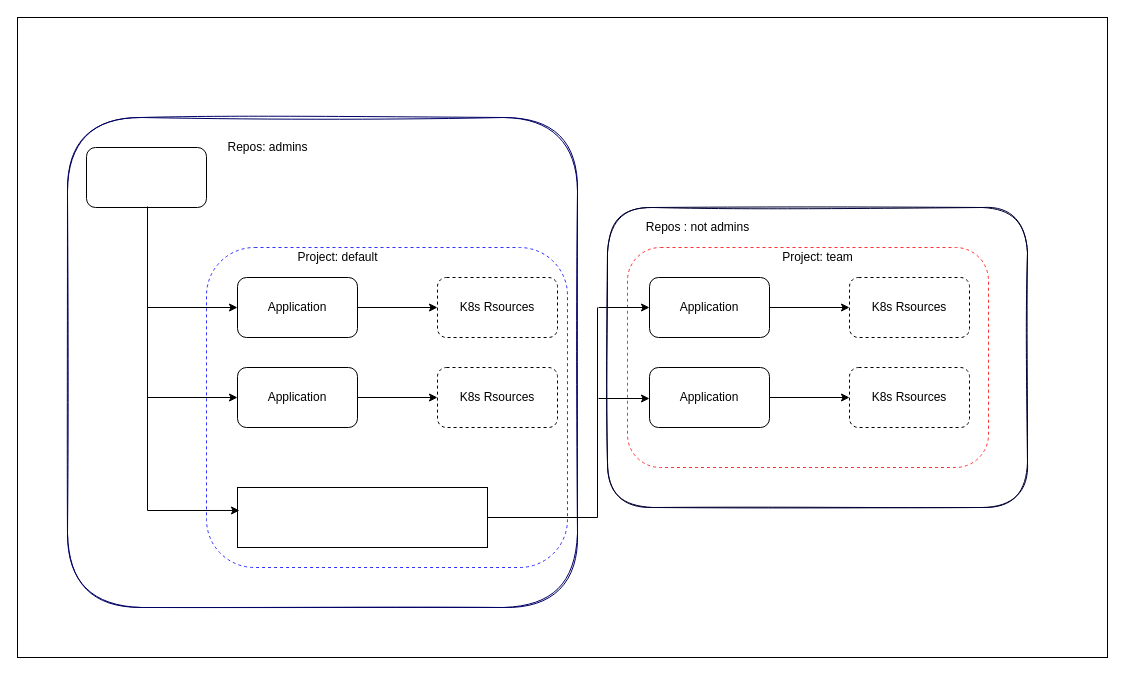
Some shapes in this 1125 by 675 pixel diagram are drawn without their labels. Here are the shapes that lost their labels. From the top down, the centre of each, then its label:
point 146,177: Application (App-of-Apps)
point 362,517: Application (App-of-Apps Non-admin)
